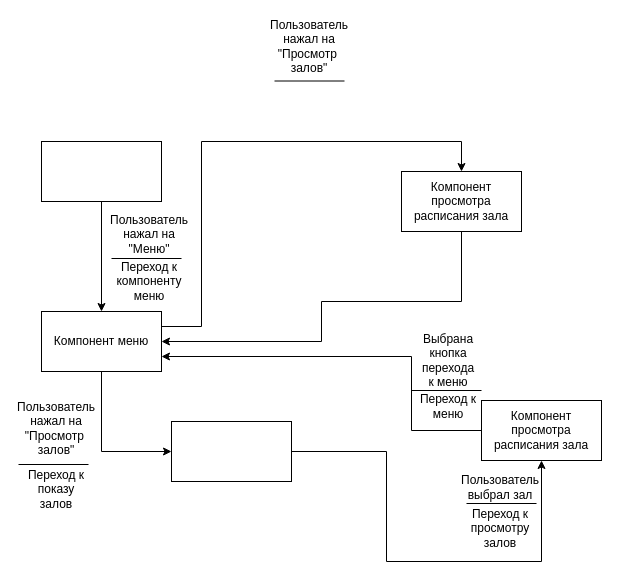
The diagram is 619 pixels wide and 587 high, and some of its shapes have lost their labels. Each missing label, with the box of its shape:
Компонент информации о боте: (40, 140, 162, 202)
Компонент списков залов: (170, 420, 292, 482)
